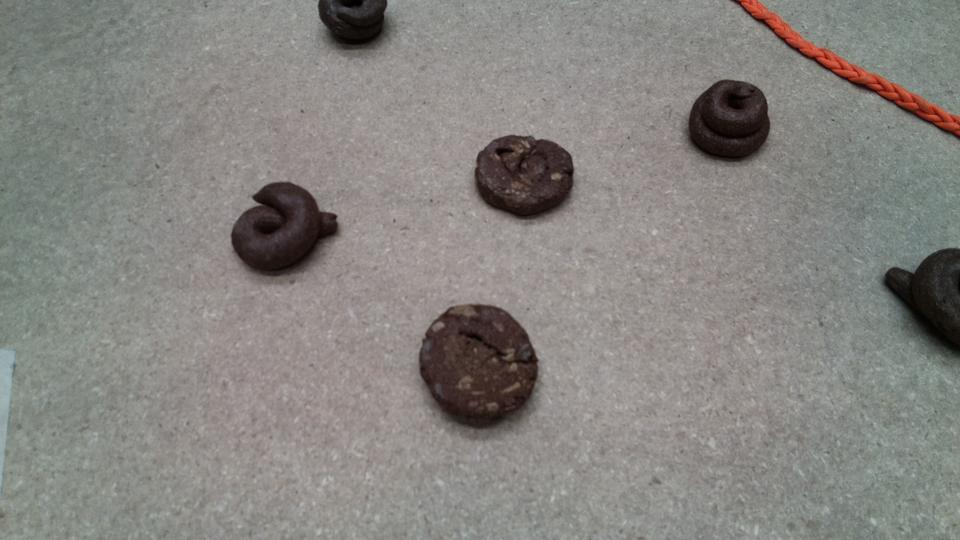poop: (422, 304, 538, 425), (233, 180, 339, 273), (477, 134, 572, 214), (886, 248, 960, 347), (317, 1, 387, 47)
rope: (786, 30, 835, 70), (835, 58, 881, 92), (880, 83, 928, 115), (739, 1, 785, 31), (928, 109, 960, 135)
